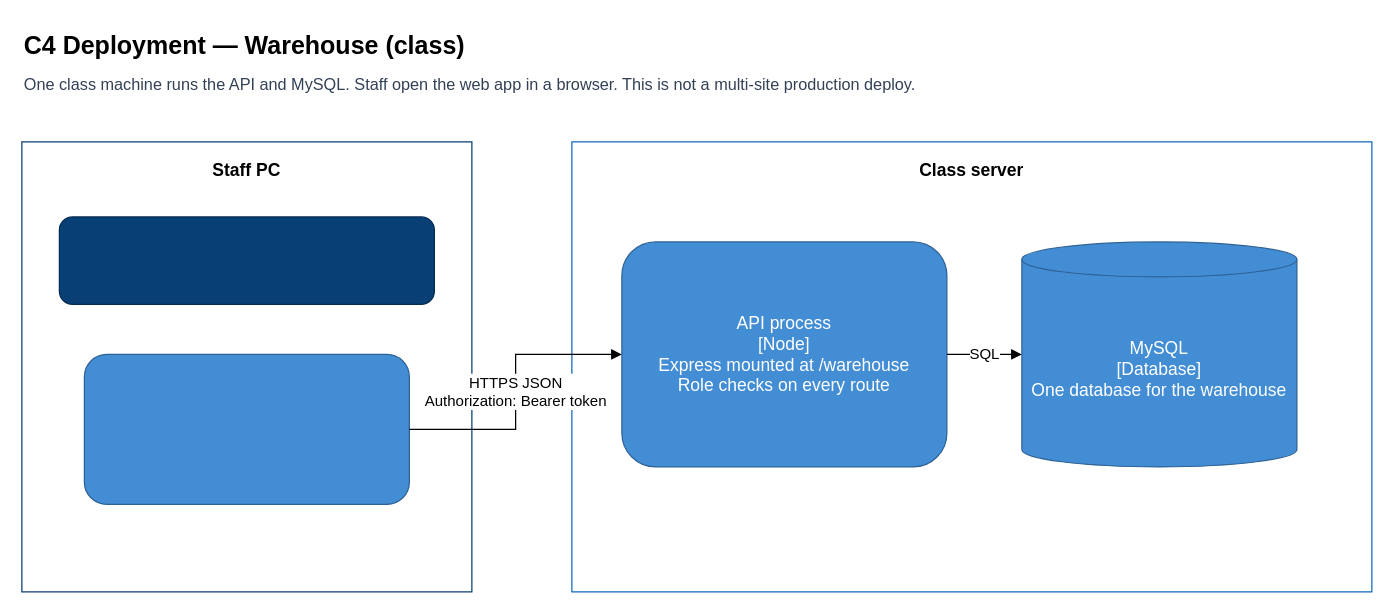
Some shapes in this 1394 by 614 pixel diagram are drawn without their labels. The shapes that lost their labels are listed below. From the top down, each one's centre as x and y in pixels, then its label:
point (246, 260): Browser [Deployment node]
point (246, 428): Web app [Vue 3] docs/ui screens
